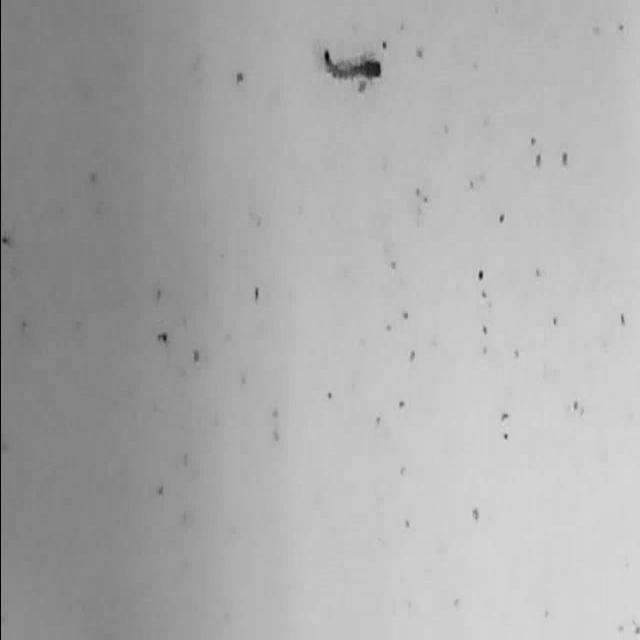larvas: (323, 46, 381, 79)
